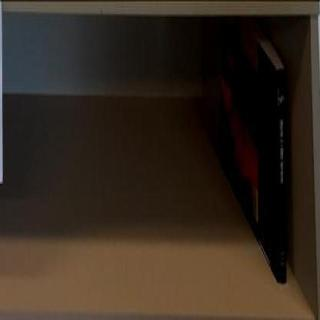book-spine: (275, 68, 286, 290)
